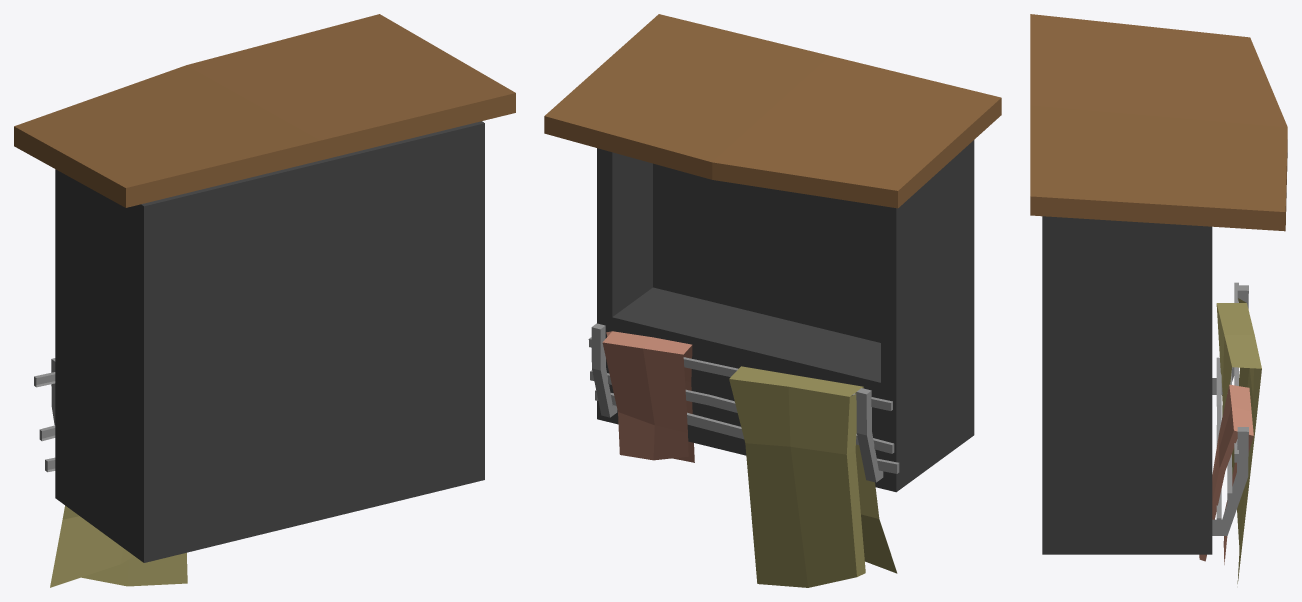
File: Balcon.fbx
3 renders of one model, left to right at view 1: azimuth 30°, elevation 25°; view 2: azimuth 150°, elevation 25°; view 3: azimuth 270°, elevation 25°, orthographic. The views are drawn at different scales.
Visible parts, largest first — view 1: Cube.005; view 2: Cube.005; view 3: Cube.005.
Part boxes in pixels (x1,y1,x2,y2): Cube.005: (14,14,515,587); Cube.005: (544,14,1001,587); Cube.005: (1030,14,1287,583).
Bounding box in the file's own units: 341 × 431 × 203.
